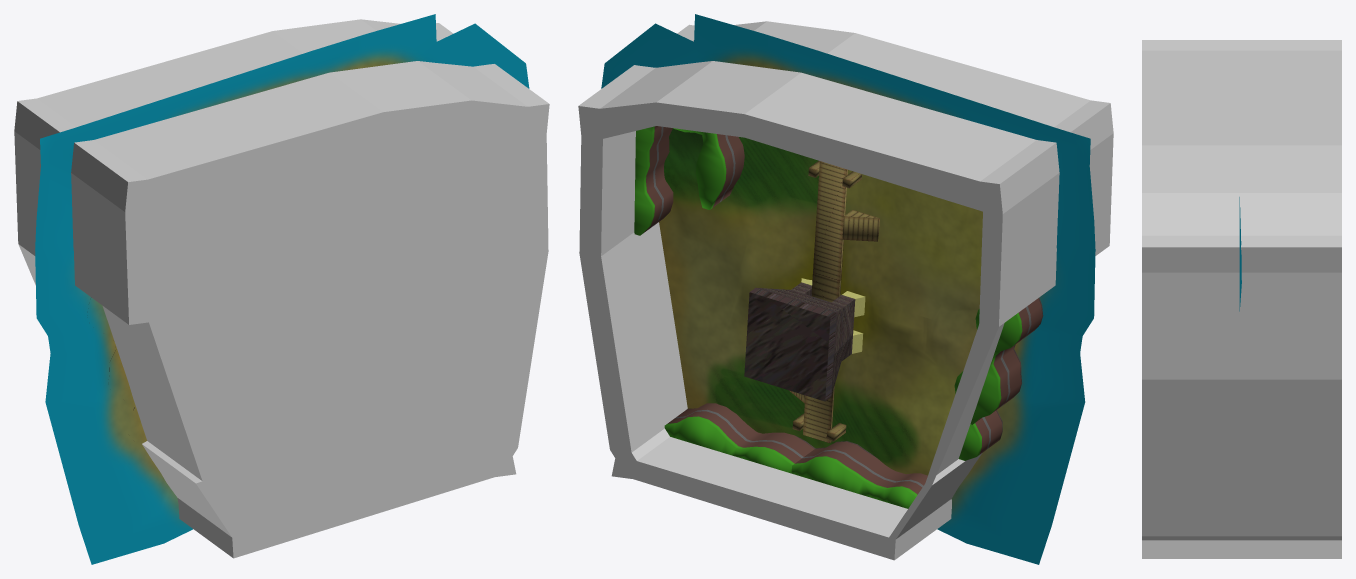
The model's file is map_9.fbx.
3 renders of one model, left to right at view 1: azimuth 30°, elevation 25°; view 2: azimuth 150°, elevation 25°; view 3: azimuth 270°, elevation 25°, orthographic. The views are drawn at different scales.
Visible parts, largest first — view 1: Pont; view 2: Pont; view 3: Pont.
Boxes of the visible parts, x1,y1,x2,y2 form: Pont: (14, 14, 549, 564); Pont: (578, 14, 1113, 564); Pont: (1142, 40, 1341, 558).
Bounding box in the file's own units: 148 × 132 × 56.82.
